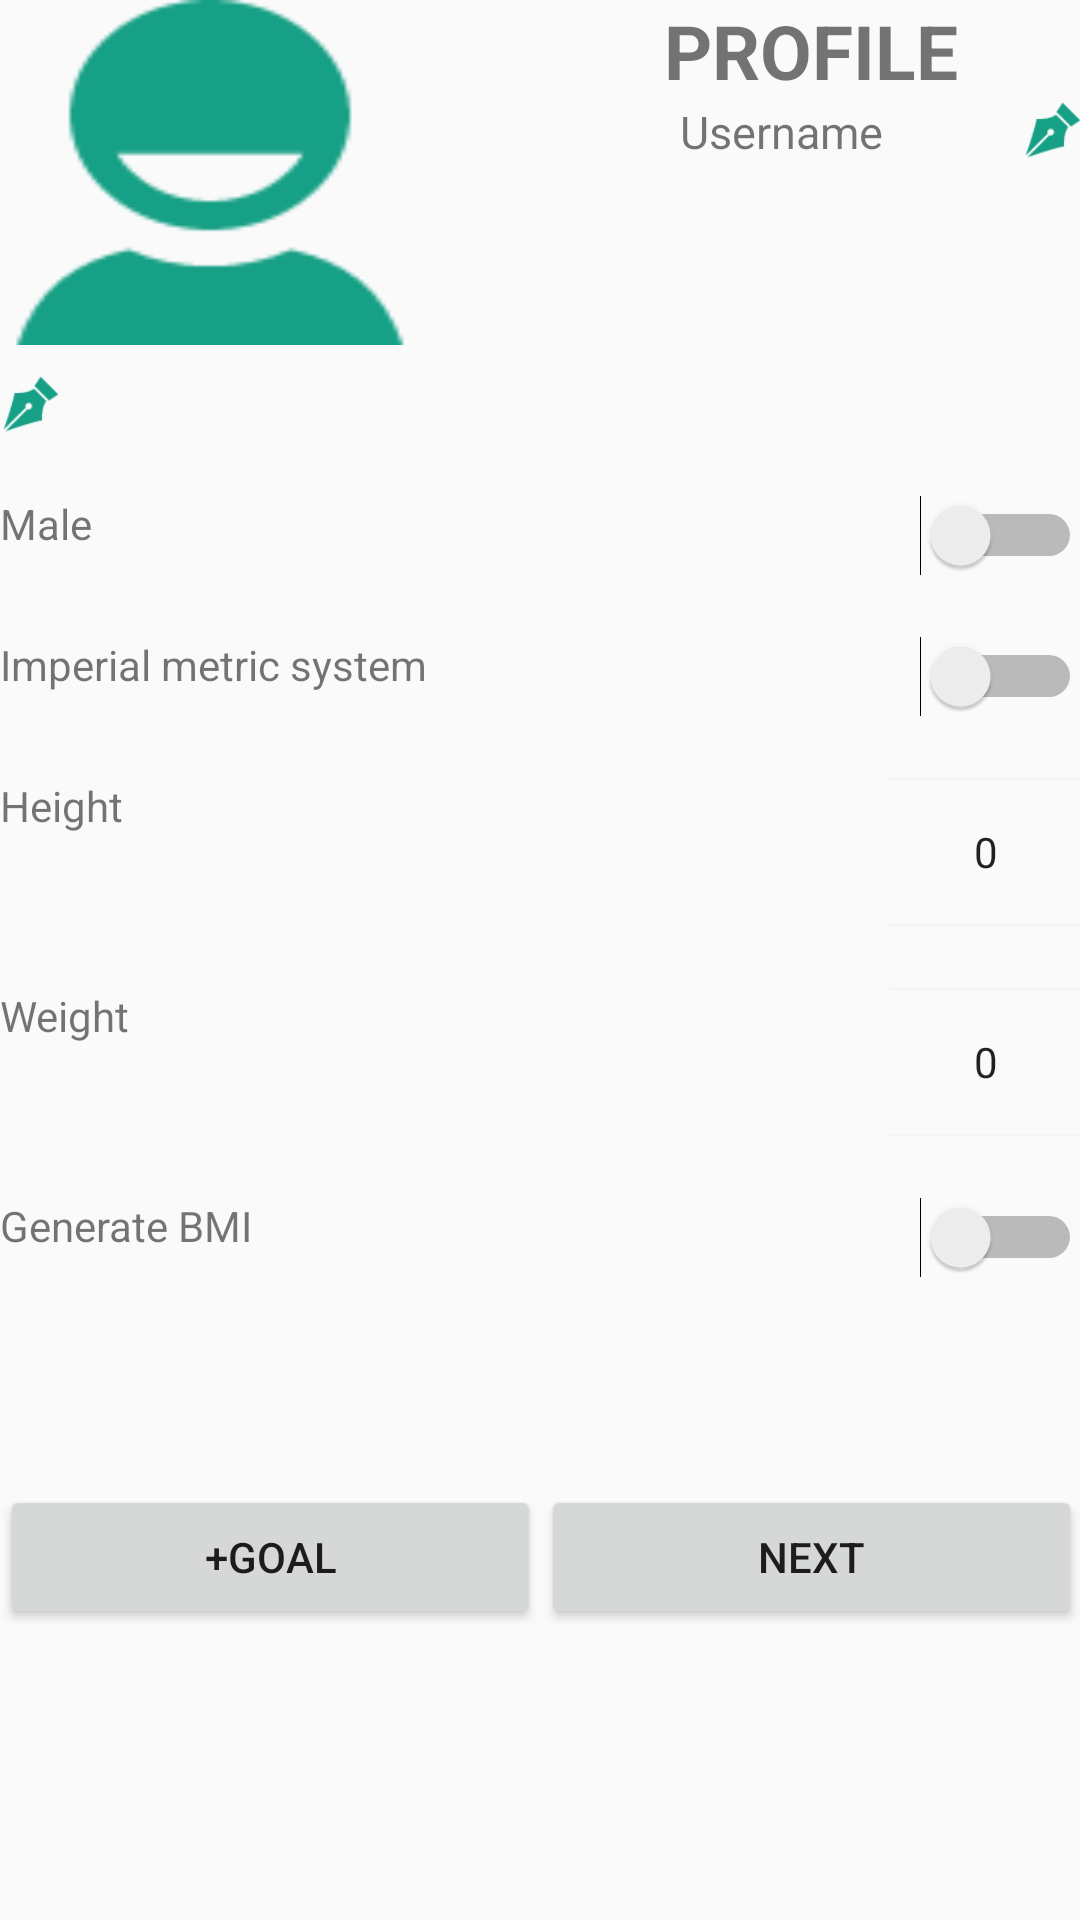

Named icons in this screenshot (1080px×1920px) and their bounding boxes, rect(x1, y1, x2, y2):
penforchange: rect(1025, 102, 1080, 158), rect(3, 376, 59, 432)
